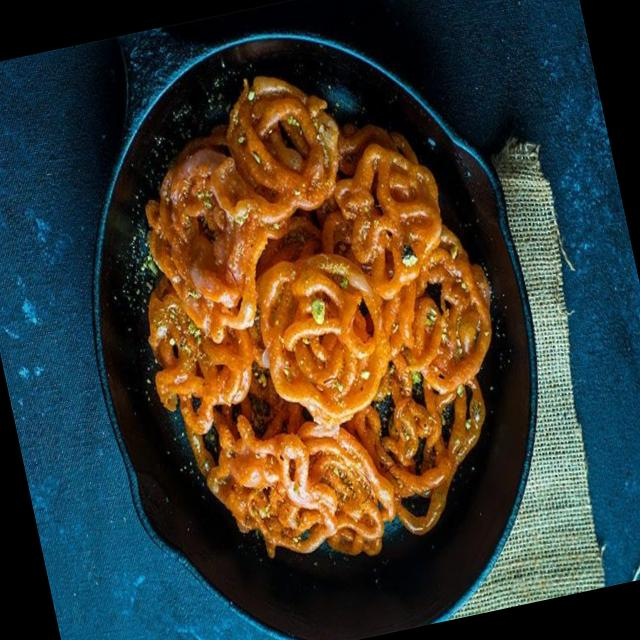jalebi: (113, 64, 530, 586)
